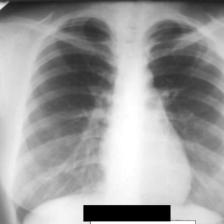tuberculosis: (6, 7, 224, 223)
